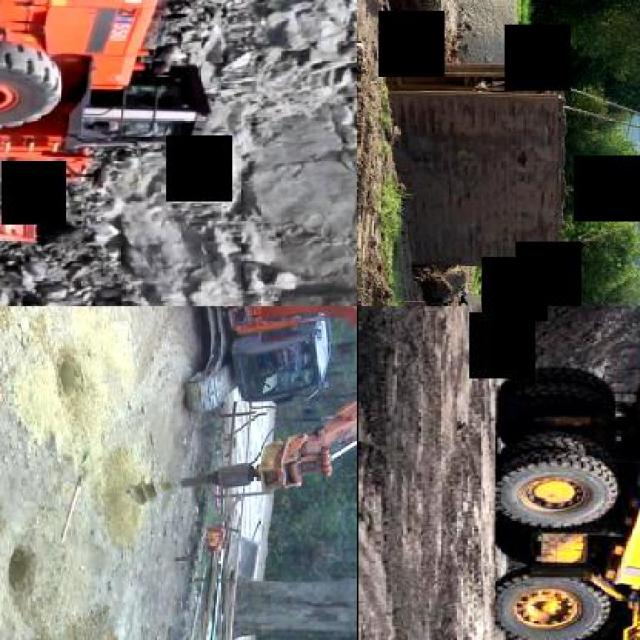buldozerpayloadergrader: (0, 0, 223, 252)
dump_truck: (496, 314, 638, 638)
excavator: (123, 306, 355, 526), (430, 170, 638, 304)
